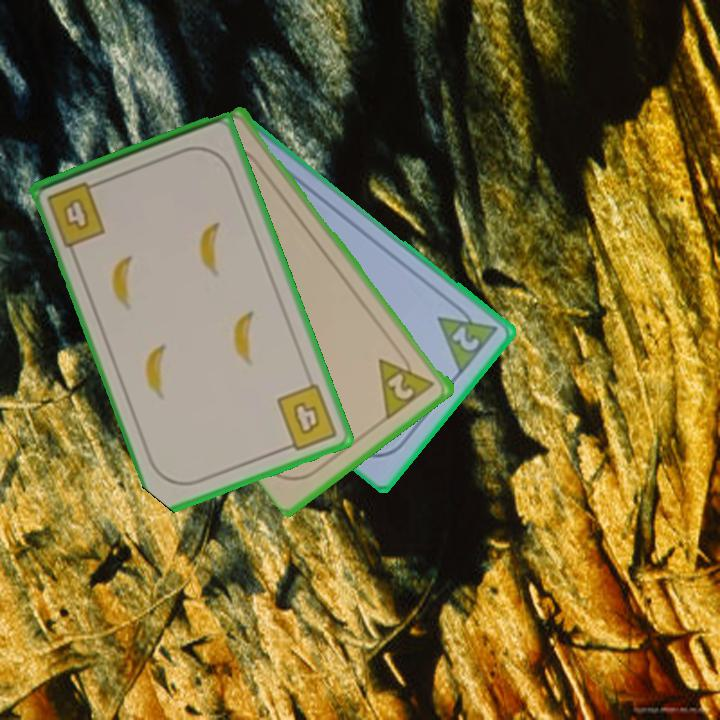2p: (434, 297, 502, 377), (375, 345, 438, 421)
4b: (273, 380, 341, 455), (43, 177, 109, 250)
